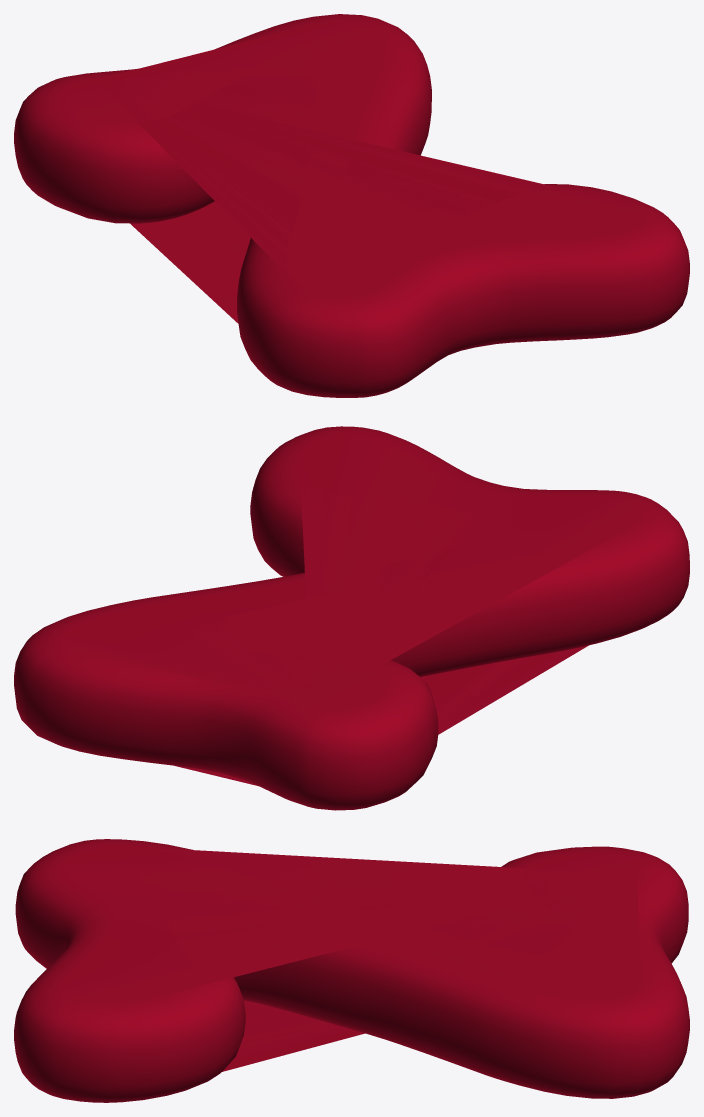
3 views of the same model, one above another, from view 1: azimuth 30°, elevation 25°; view 2: azimuth 150°, elevation 25°; view 3: azimuth 270°, elevation 25° (orthographic).
Parts seen in each view (by area): view 1: Curve.001; view 2: Curve.001; view 3: Curve.001.
Part boxes in pixels (box(x1,y1,x2,y2)): Curve.001: box(14, 14, 689, 397); Curve.001: box(14, 426, 689, 810); Curve.001: box(14, 839, 689, 1102).
Bounding box in the file's own units: 229 × 49.54 × 328.
1 material, 1 textured.
